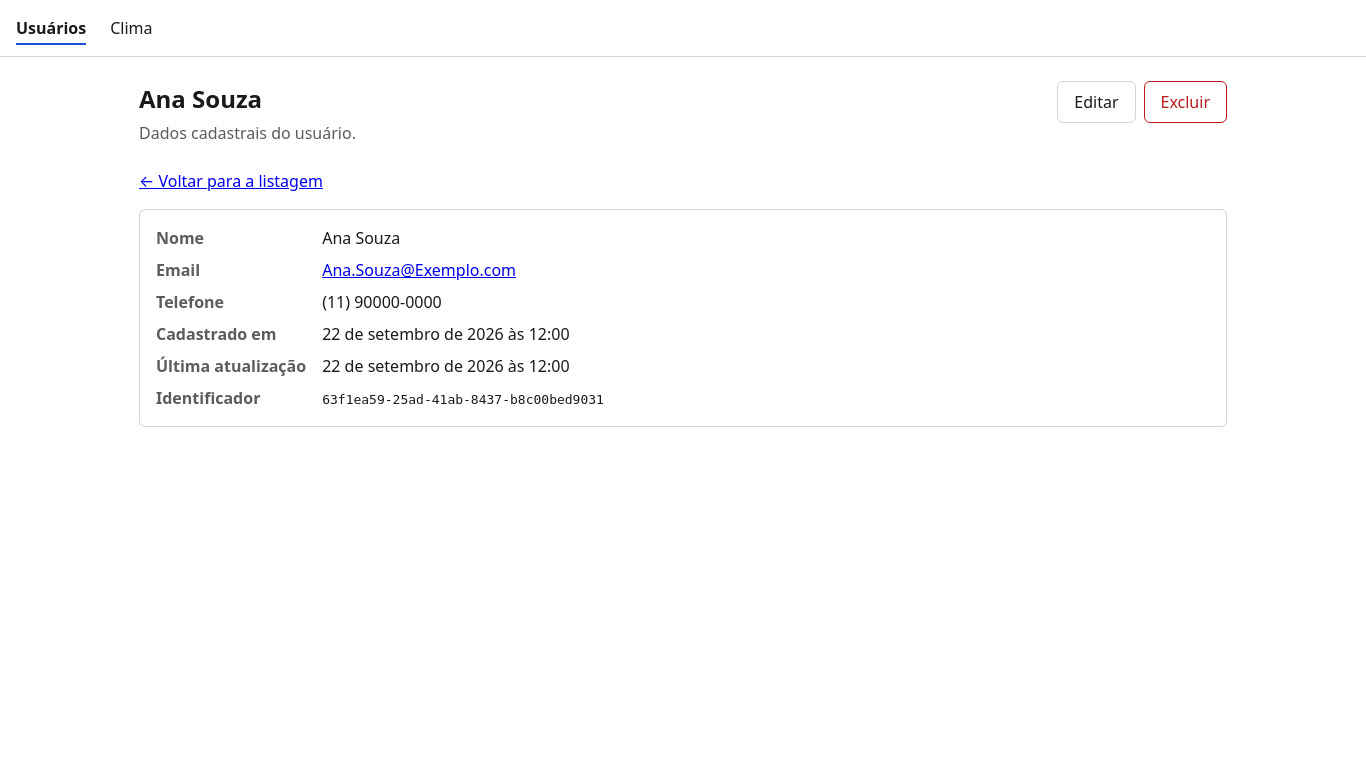
Scenario: confirmação de exclusão › não remove ao primeiro clique
Click the button "Excluir". click: {"x": 1185, "y": 102}
box: [1144,81,1227,123]
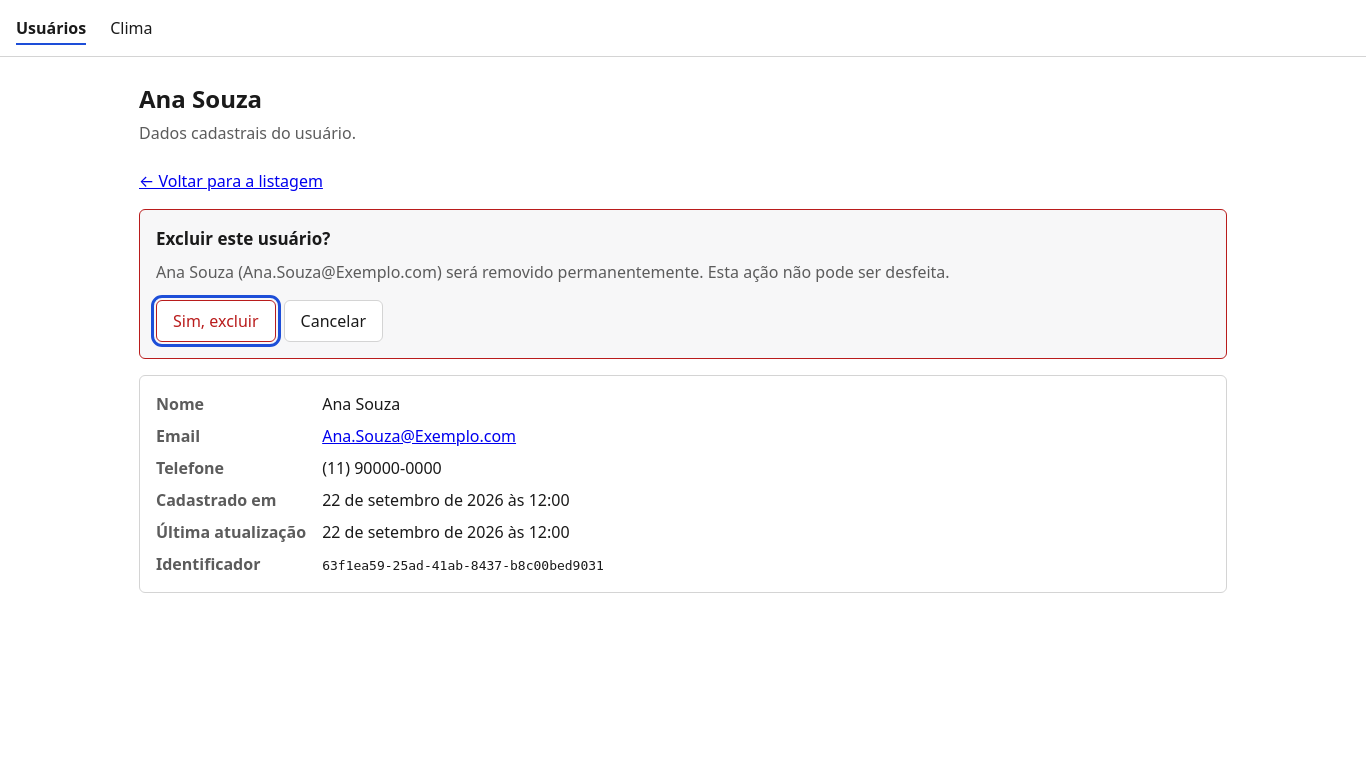
Expected: the dialog is shown, [139,209,1227,358]
